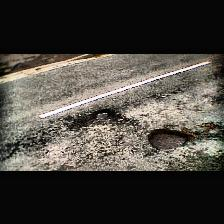pothole: (148, 127, 188, 150), (92, 106, 112, 119)
